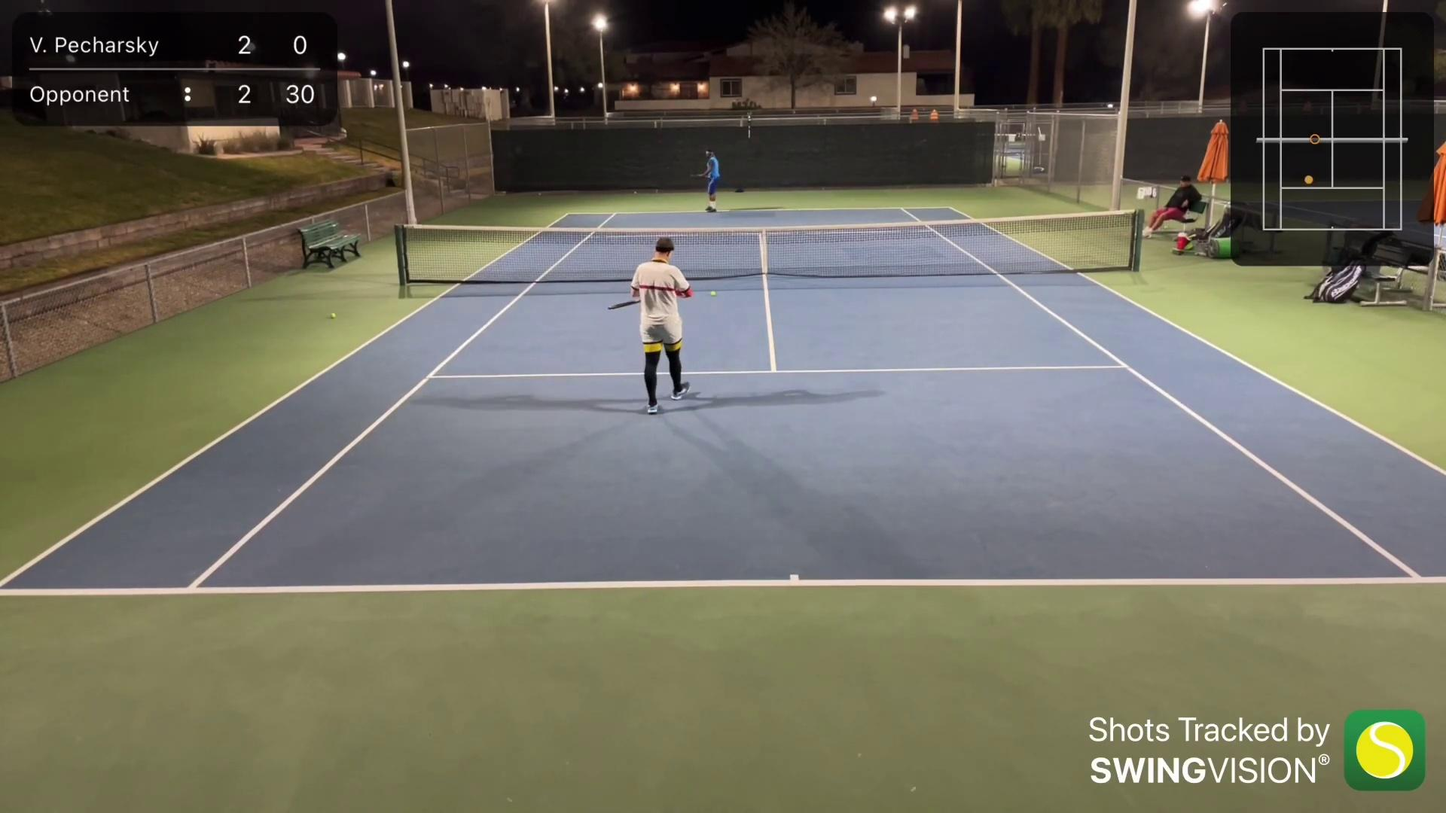ball: (326, 309, 341, 320), (708, 288, 718, 297)
